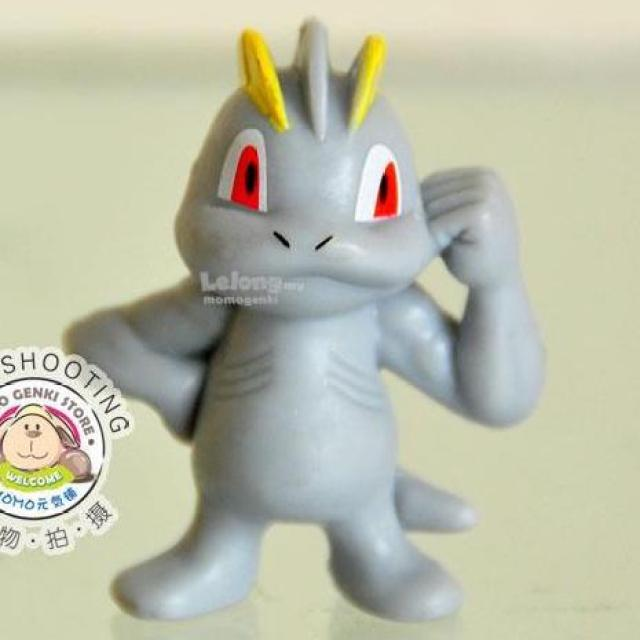Machop: (144, 21, 506, 624)
